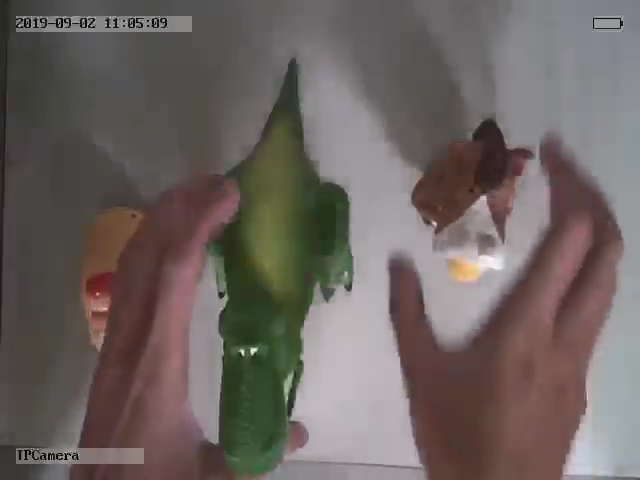horse: (411, 119, 534, 282)
